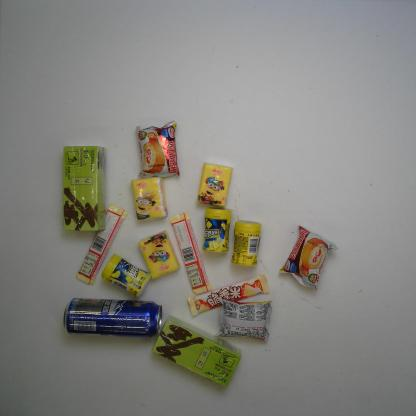Alcohol: (63, 297, 163, 339)
Chocolate: (76, 203, 128, 285), (186, 274, 270, 317), (169, 212, 212, 294)
Dessert: (278, 225, 338, 292), (213, 296, 272, 343), (136, 120, 180, 179)
Gum: (101, 254, 152, 298), (202, 207, 234, 254), (231, 220, 261, 267)
Instant Drink: (150, 314, 242, 388), (63, 146, 106, 232)
Tissue: (138, 230, 180, 281), (131, 176, 168, 222), (197, 162, 234, 208)
